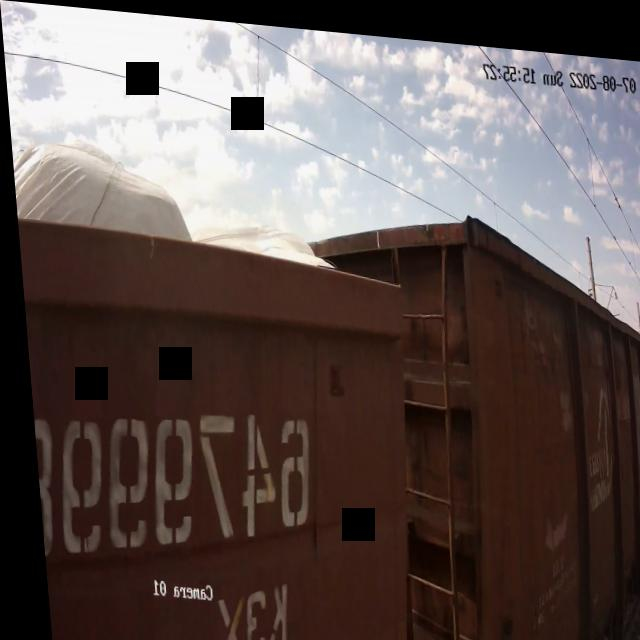gondola: (7, 104, 442, 640), (360, 188, 640, 640)
